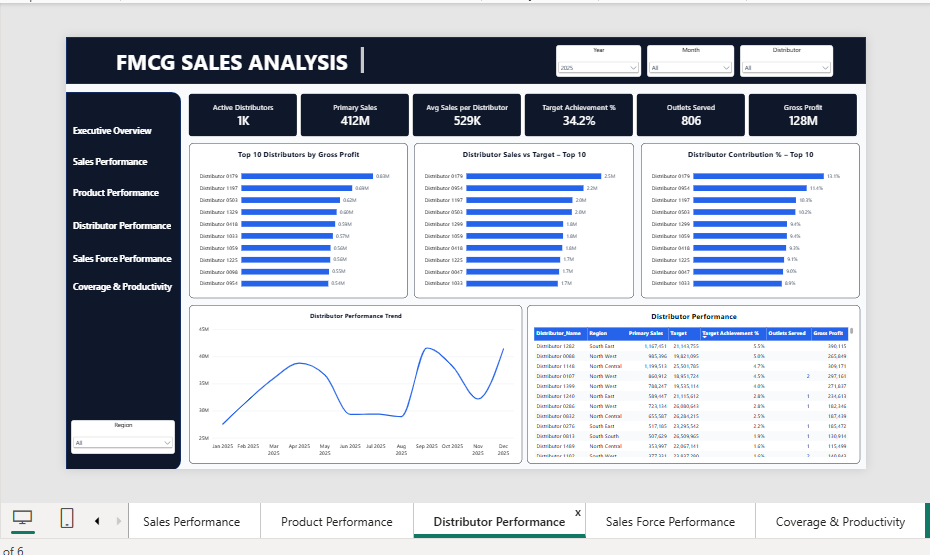

The page's visual inventory and layout, read from the dashboard file:
{"tool":"powerbi","page":{"name":"Distributor Performance","canvas":[2000,1082],"ordinal":3},"visuals":[{"type":"shape","box":[0,0,2000,117.5],"z":0},{"type":"textbox","box":[125,25,620,67.5],"z":1000},{"type":"shape","box":[0,137.5,287.5,945],"z":2000},{"type":"textbox","box":[17.5,297.5,237.5,32.5],"z":3000},{"type":"textbox","box":[17.5,220,215,45],"z":4000},{"type":"textbox","box":[17.5,375,255,35],"z":5000},{"type":"textbox","box":[17.5,457.5,255,37.5],"z":6000},{"type":"textbox","box":[17.5,540,255,37.5],"z":7000},{"type":"textbox","box":[17.5,610,255,37.5],"z":8000},{"type":"slicer","title":"Year","fields":{"Values":["DimDate.Year"]},"box":[1225,20,212.5,80],"z":40300},{"type":"slicer","title":"Month","fields":{"Values":["DimDate.Month"]},"box":[1452.5,20,217.5,80],"z":40400},{"type":"slicer","title":"Region","fields":{"Values":["DistributorMaster.Region"]},"box":[12.5,957.5,260,85],"z":40500},{"type":"slicer","title":"Distributor","fields":{"Values":["DistributorMaster.Distributor_Name"]},"box":[1685,20,232.5,80],"z":40600},{"type":"cardVisual","fields":{"Data":["_measures.Active Distributors","_measures.Primary Sales","_measures.Avg Sales per Distributor","_measures.Target Achievement %","_measures.Outlets Served","_measures.Gross Profit"]},"box":[305,140,1678.3,110],"z":40700},{"type":"clusteredBarChart","title":"Top 10 Distributors by Gross Profit","fields":{"Category":["DistributorMaster.Distributor_Name"],"Y":["_measures.Gross Profit"]},"box":[306.7,265,546.7,388.3],"z":40800},{"type":"clusteredBarChart","title":"Distributor Sales vs Target – Top 10","fields":{"Category":["DistributorMaster.Distributor_Name"],"Y":["_measures.Primary Sales"]},"box":[870,265,550,388.3],"z":40900},{"type":"clusteredBarChart","title":"Distributor Contribution % – Top 10","fields":{"Category":["DistributorMaster.Distributor_Name"],"Y":["_measures.Distributor Contribution %"]},"box":[1436.7,265,546.7,388.3],"z":41000},{"type":"lineChart","title":"Distributor Performance Trend","fields":{"Category":["DimDate.Month Year"],"Y":["_measures.Primary Sales"]},"box":[307.1,670,832.9,397.1],"z":41100},{"type":"tableEx","title":"Distributor Performance","fields":{"Values":["DistributorMaster.Distributor_Name","DistributorMaster.Region","_measures.Primary Sales","_measures.Target","_measures.Target Achievement %","_measures.Outlets Served","_measures.Gross Profit"]},"box":[1153.3,670,833.3,396.7],"z":41300}]}

Visuals, with their boxes on the page's 2000x1082 design canvas (x1, y1, x2, y2). These are canvas units, not pixel positions in the 930x555 screenshot, which may show the page scaled, cropped or inside an application window:
shape: bbox=(0, 0, 2000, 118)
textbox: bbox=(125, 25, 745, 92)
shape: bbox=(0, 138, 288, 1082)
textbox: bbox=(18, 298, 255, 330)
textbox: bbox=(18, 220, 232, 265)
textbox: bbox=(18, 375, 272, 410)
textbox: bbox=(18, 458, 272, 495)
textbox: bbox=(18, 540, 272, 578)
textbox: bbox=(18, 610, 272, 648)
"Year" slicer: bbox=(1225, 20, 1438, 100)
"Month" slicer: bbox=(1452, 20, 1670, 100)
"Region" slicer: bbox=(12, 958, 272, 1042)
"Distributor" slicer: bbox=(1685, 20, 1918, 100)
cardVisual - _measures.Active Distributors x _measures.Primary Sales: bbox=(305, 140, 1983, 250)
"Top 10 Distributors by Gross Profit" clusteredBarChart: bbox=(307, 265, 853, 653)
"Distributor Sales vs Target – Top 10" clusteredBarChart: bbox=(870, 265, 1420, 653)
"Distributor Contribution % – Top 10" clusteredBarChart: bbox=(1437, 265, 1983, 653)
"Distributor Performance Trend" lineChart: bbox=(307, 670, 1140, 1067)
"Distributor Performance" tableEx: bbox=(1153, 670, 1987, 1067)
